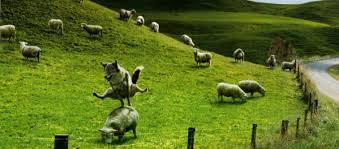sheep: (101, 103, 140, 144), (216, 82, 249, 103), (18, 41, 43, 63), (244, 80, 268, 96), (192, 50, 214, 66), (1, 23, 14, 47), (48, 19, 67, 35), (85, 24, 103, 38), (183, 35, 198, 49), (123, 9, 136, 22), (284, 60, 296, 72), (150, 20, 161, 32), (136, 16, 146, 28), (268, 56, 276, 68), (236, 51, 245, 61)
